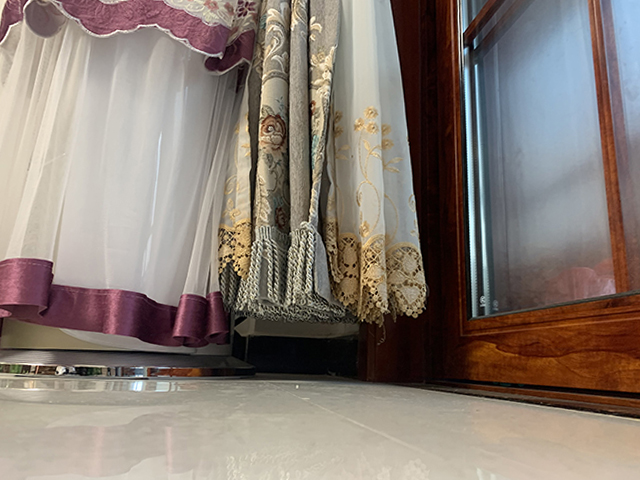curtain: (1, 1, 230, 349), (215, 1, 429, 326)
